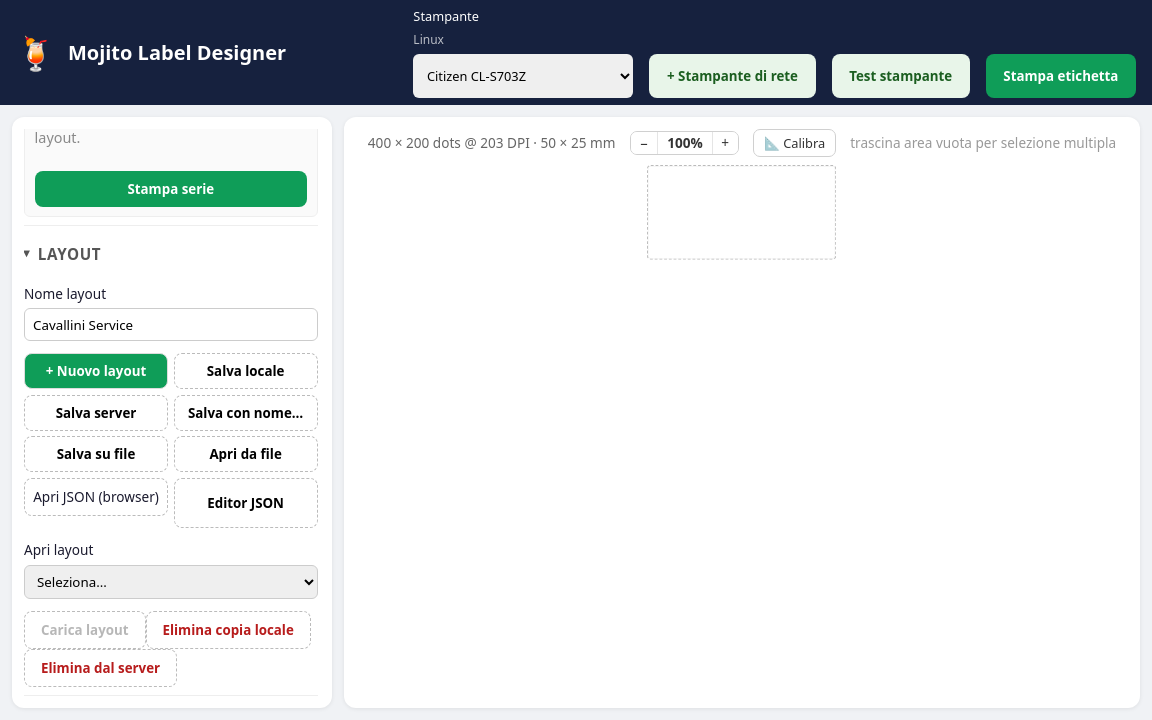
Scenario: LabelDesigner — salvataggio senza sovrascrivere › "Salva server" › se un'altra postazione ha creato lo stesso identificativo nel frattempo, mostra il rifiuto del server
(page scrolled)
Step 1. Click the button "Salva server" → (96, 413), box [24,395,168,431]
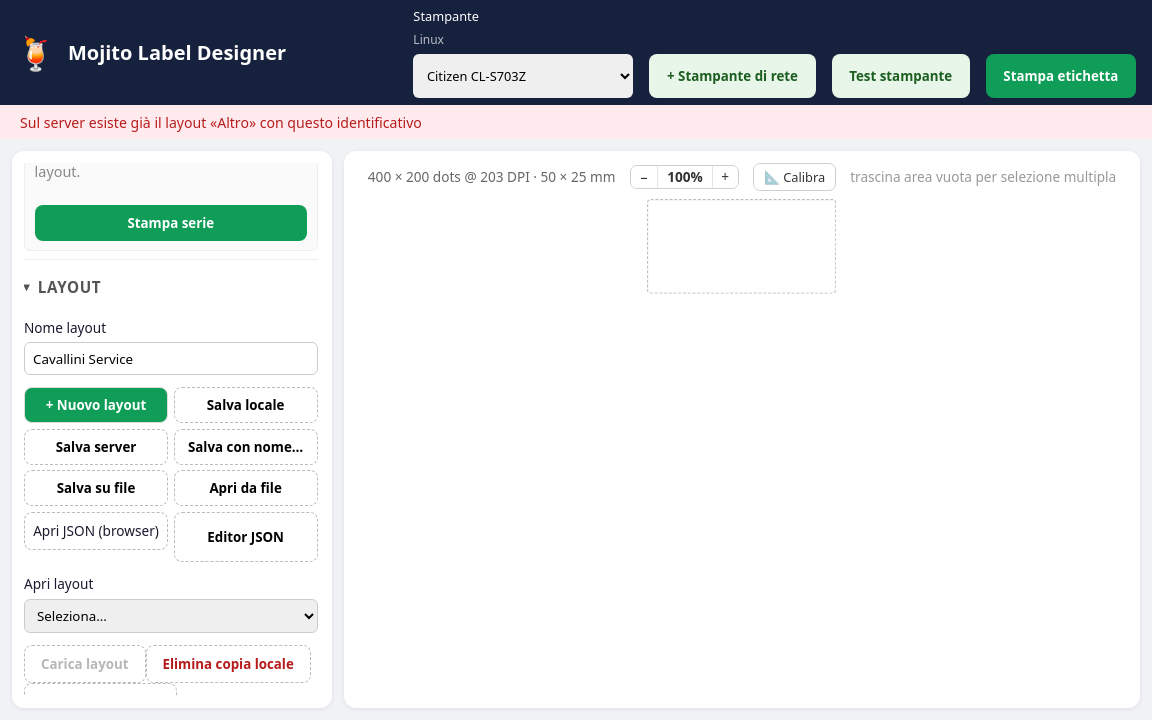
Check: the element with class "status" shows "«Altro»", box [20,112,422,132]
